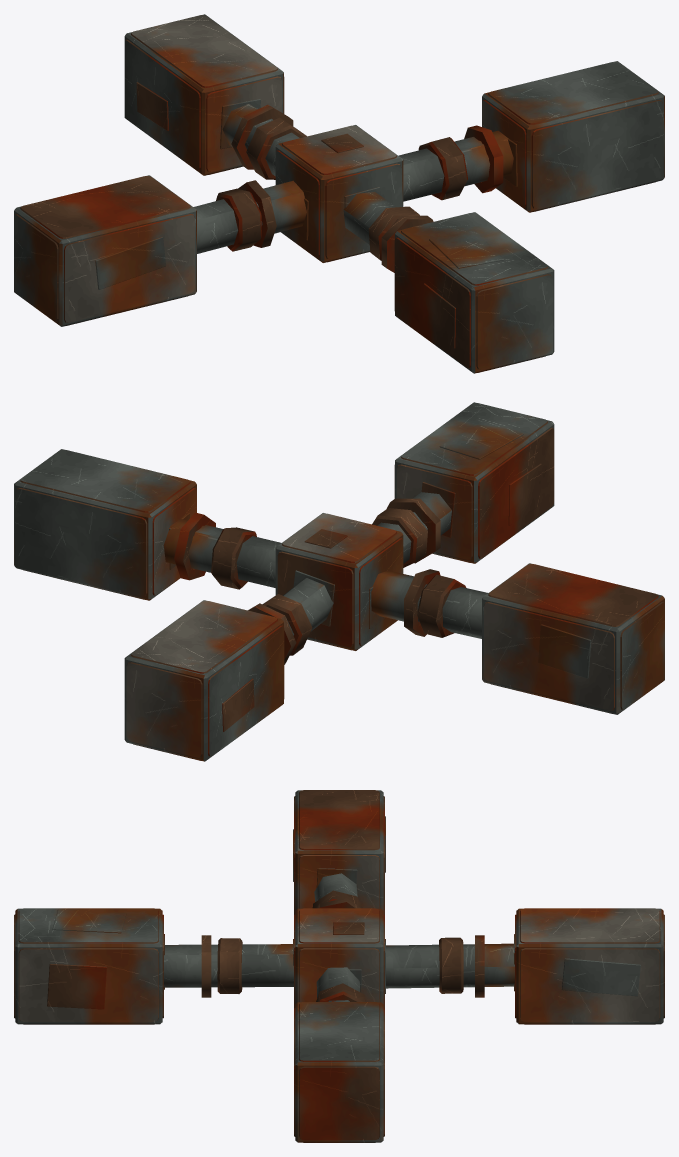
File: R4C_ROD_PLUS.glb
3 views of the same model, one above another, from view 1: azimuth 30°, elevation 25°; view 2: azimuth 150°, elevation 25°; view 3: azimuth 270°, elevation 25° (orthographic). The views are drawn at different scales.
Parts seen in each view (by area): view 1: R4C_ROD_PLUS; view 2: R4C_ROD_PLUS; view 3: R4C_ROD_PLUS.
Boxes of the visible parts, left/top/right/bottom form: R4C_ROD_PLUS: left=14, top=14, right=664, bottom=373; R4C_ROD_PLUS: left=14, top=402, right=664, bottom=761; R4C_ROD_PLUS: left=14, top=790, right=664, bottom=1142.
Bounding box in the file's own units: 1.62 × 0.232 × 1.62.
4 materials, 4 textured.
